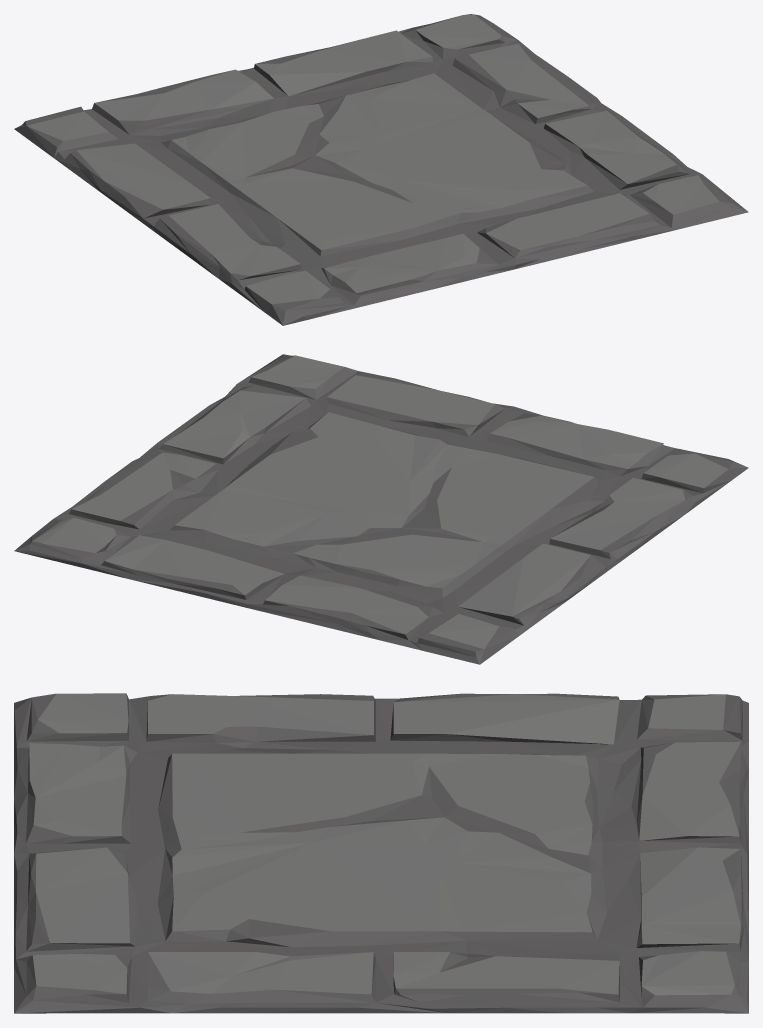
File: SM_Env_Tiles_04.FBX
3 renders of one model, top to bottom at view 1: azimuth 30°, elevation 25°; view 2: azimuth 150°, elevation 25°; view 3: azimuth 270°, elevation 25°, orthographic. The views are drawn at different scales.
Parts seen in each view (by area): view 1: SM_Env_Tiles_04; view 2: SM_Env_Tiles_04; view 3: SM_Env_Tiles_04.
Boxes of the visible parts, x1,y1,x2,y2 form: SM_Env_Tiles_04: (14,14,748,325); SM_Env_Tiles_04: (14,354,748,664); SM_Env_Tiles_04: (14,693,748,1013).
Size of what is drawn, in the model's own units: 500 by 500 by 10.14.
